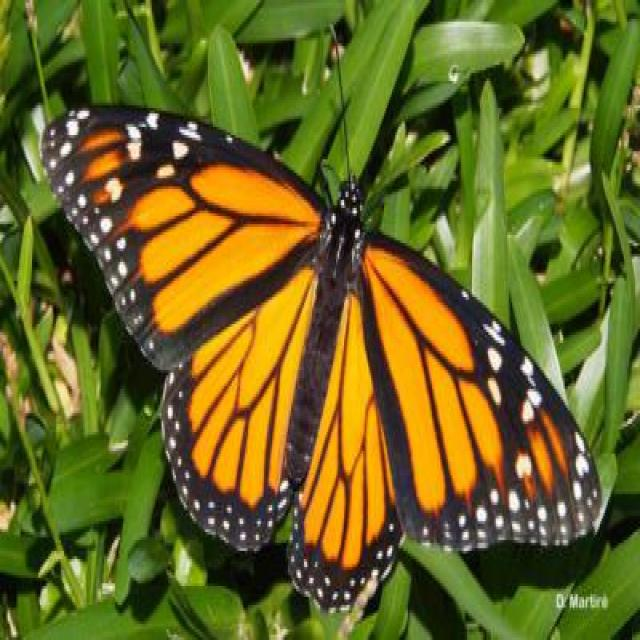body: (282, 176, 361, 484)
insect: (44, 24, 598, 612)
wings: (47, 107, 329, 551), (292, 228, 599, 610)
